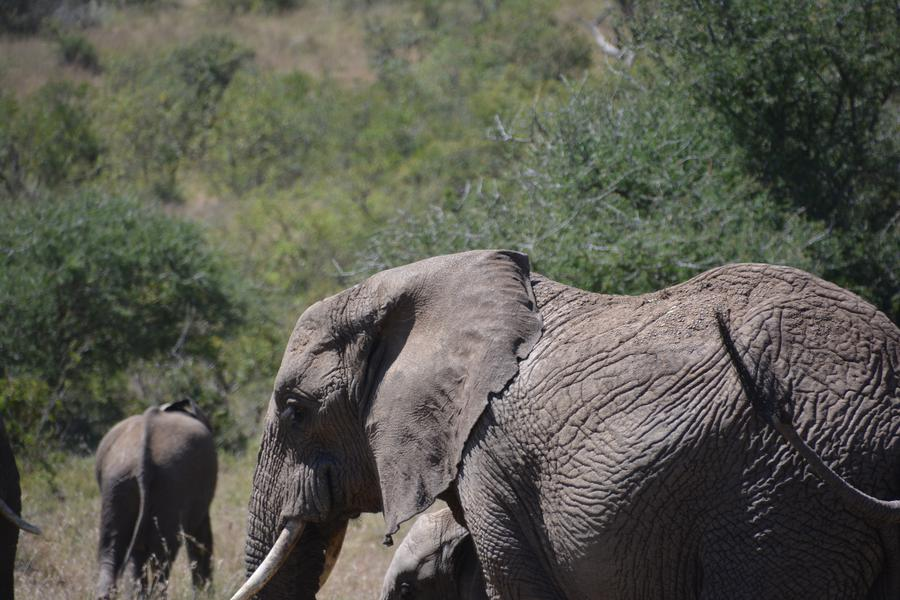elephant: (282, 257, 894, 588), (90, 399, 214, 564)
